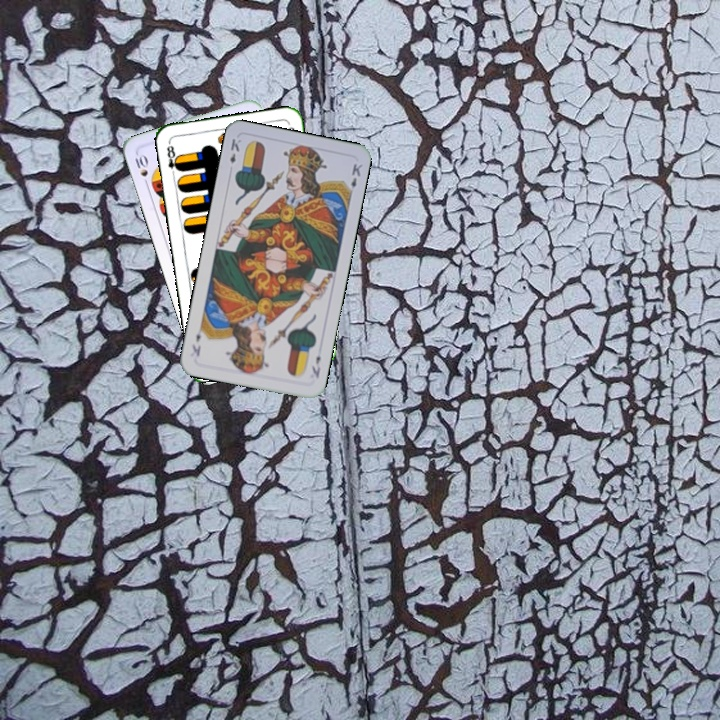E8: (163, 142, 183, 179)
EK: (308, 344, 324, 381), (226, 134, 243, 166)
S10: (131, 150, 151, 190)
